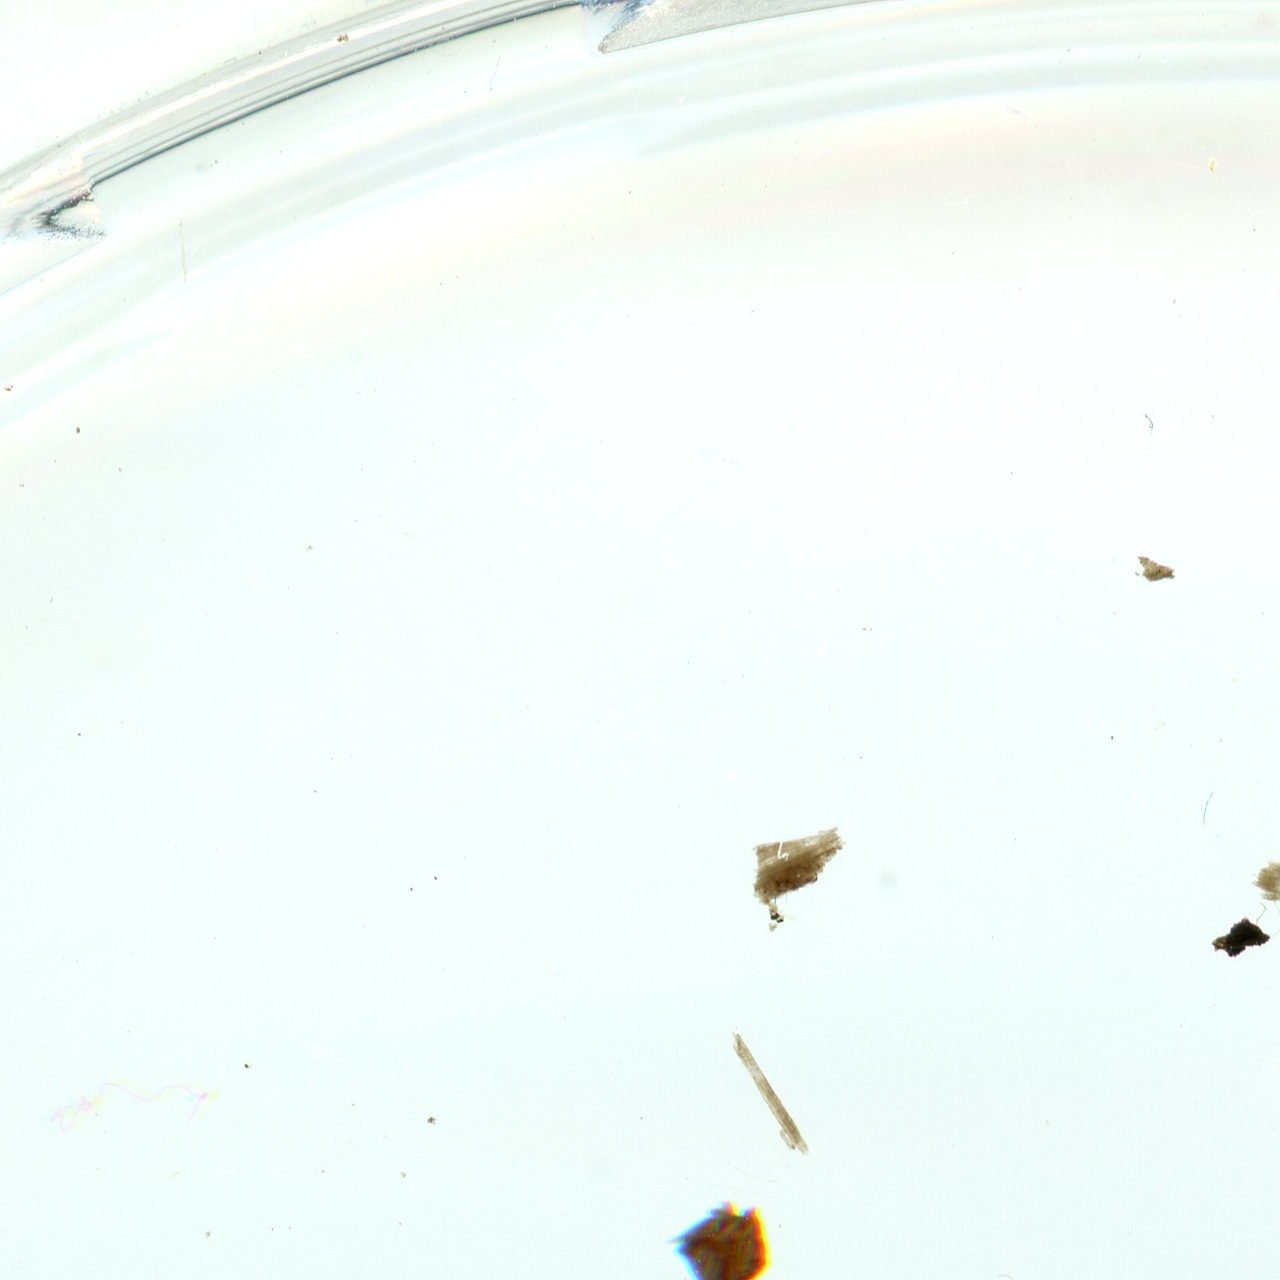arthropod: (934, 1269, 1023, 1280)
